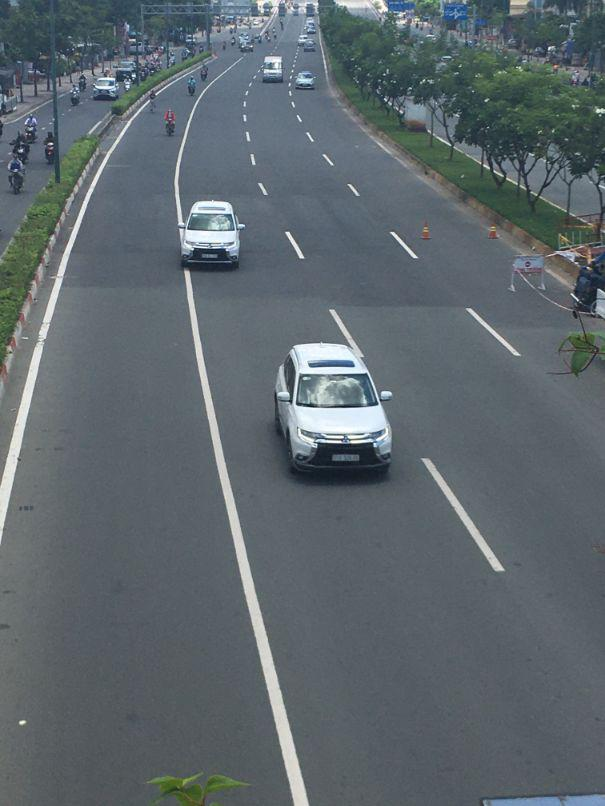car: (272, 339, 393, 475), (181, 201, 244, 269), (261, 55, 283, 82), (94, 78, 118, 102), (295, 72, 316, 91)
motorbike: (9, 161, 25, 192), (163, 110, 176, 136)
